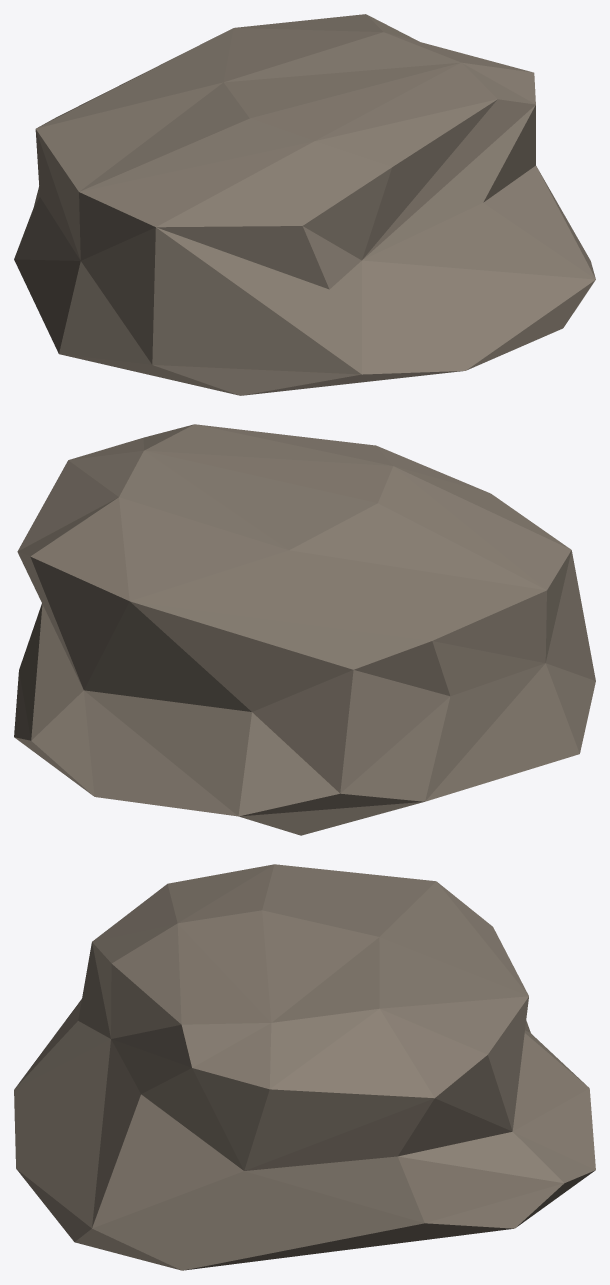
Rendered from SM_Env_Rock_02.glb.
3 views of the same model, one above another, from view 1: azimuth 30°, elevation 25°; view 2: azimuth 150°, elevation 25°; view 3: azimuth 270°, elevation 25° (orthographic). The views are drawn at different scales.
Visible parts, largest first — view 1: SM_Env_Rock_02; view 2: SM_Env_Rock_02; view 3: SM_Env_Rock_02.
Part boxes in pixels (x1,y1,x2,y2): SM_Env_Rock_02: [14, 14, 595, 395]; SM_Env_Rock_02: [14, 424, 595, 835]; SM_Env_Rock_02: [14, 864, 595, 1270].
Size of the model in its own units: 2.35 by 0.9934 by 2.25.
Materials: 1 (1 with a texture image).
